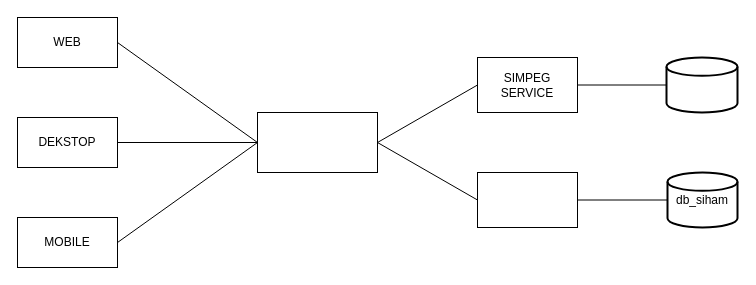
Image size: 756x285. Some labels were removed from this diagram. The shapes that lost their labels are listed below. From the top down, each one's box as (x1, y1, x2, y2) in pixels, then its label:
(665, 56, 738, 113): db_simpeg
(256, 112, 378, 172): API Gateway
(476, 172, 578, 228): SIHAM SERVICE
